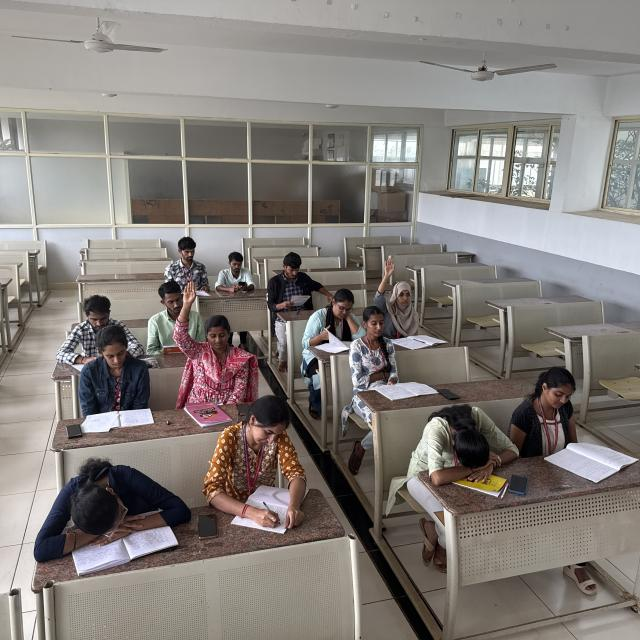Hand Rising: (180, 279, 250, 395), (376, 257, 419, 326)
Reading: (518, 366, 627, 472), (81, 326, 153, 424), (352, 306, 413, 401), (310, 282, 360, 354), (265, 252, 322, 308), (149, 280, 186, 355)
Sleeping: (32, 457, 186, 544), (419, 406, 524, 472)
Using Phone: (215, 249, 256, 291)
Writing: (232, 411, 302, 532)
